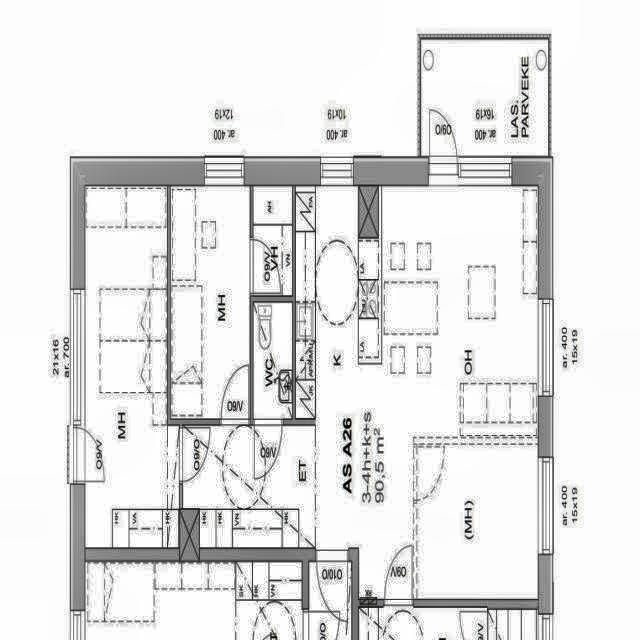room: (85, 186, 179, 548), (417, 444, 538, 599), (170, 187, 250, 420), (253, 301, 293, 420), (253, 186, 292, 296)
